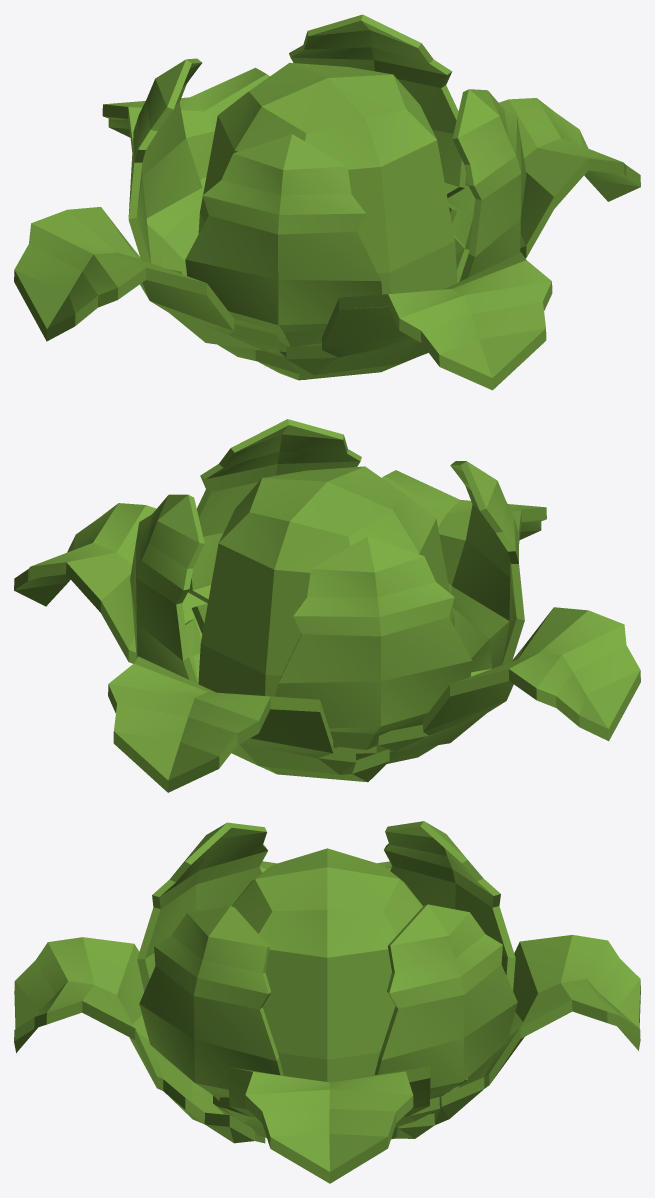
Rendered from prop_lettuce_4.glb.
The picture shows the model from 3 angles, top to bottom: view 1: azimuth 30°, elevation 25°; view 2: azimuth 150°, elevation 25°; view 3: azimuth 270°, elevation 25°; orthographic projection. The views are drawn at different scales.
Visible parts, largest first — view 1: interior; view 2: interior; view 3: interior.
Part boxes in pixels (bbox=[...]): interior: bbox=[14, 14, 640, 390]; interior: bbox=[14, 419, 640, 792]; interior: bbox=[14, 821, 640, 1183].
Bounding box in the file's own units: 1.04 × 0.4742 × 1.04.
